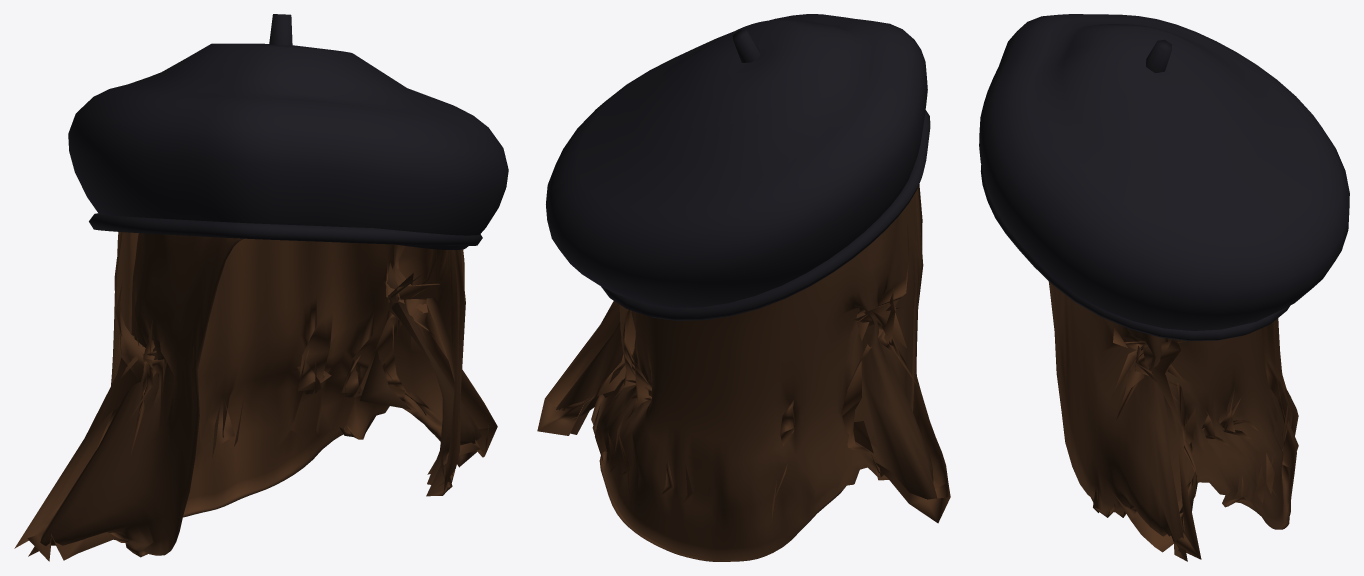
File: keramikern.glb
3 views of the same model, side by side, from view 1: azimuth 30°, elevation 25°; view 2: azimuth 150°, elevation 25°; view 3: azimuth 270°, elevation 25° (orthographic). The views are drawn at different scales.
Parts seen in each view (by area): view 1: KeramikerHair, KeramikerBeret; view 2: KeramikerBeret, KeramikerHair; view 3: KeramikerBeret, KeramikerHair.
Boxes of the visible parts, <box> form: KeramikerHair: <box>14,232,497,561</box>; KeramikerBeret: <box>68,14,508,249</box>; KeramikerBeret: <box>546,14,930,320</box>; KeramikerHair: <box>537,184,950,561</box>; KeramikerBeret: <box>979,14,1349,340</box>; KeramikerHair: <box>1048,281,1298,561</box>.
Bounding box in the file's own units: 0.3966 × 0.4445 × 0.3148.
